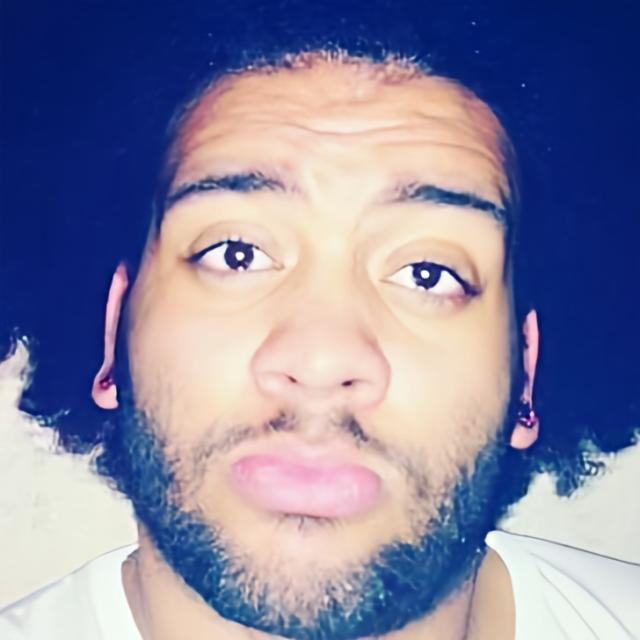surprise: (126, 55, 524, 640)
